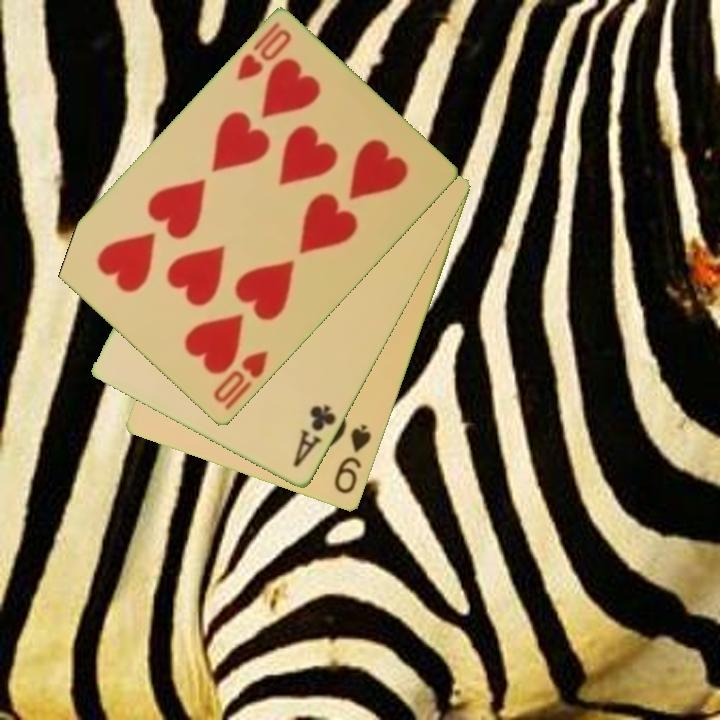10h: (233, 19, 295, 84), (210, 348, 271, 414)
9s: (331, 421, 375, 498)
Ac: (289, 402, 340, 471)
